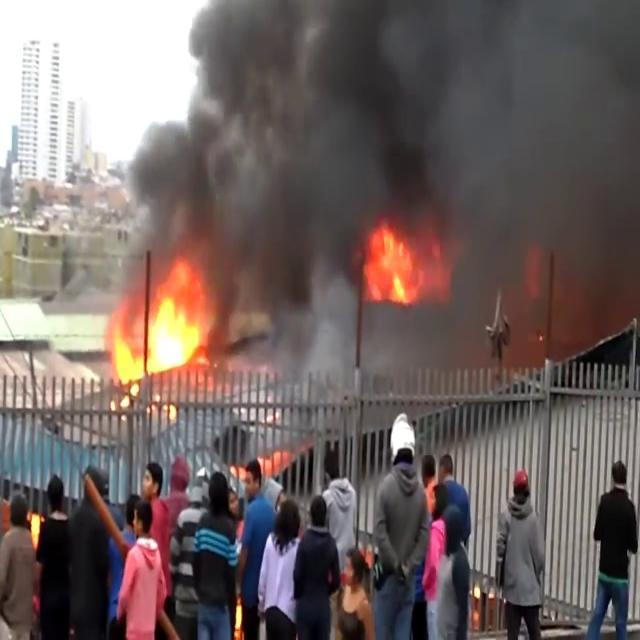Fire: (108, 262, 216, 404), (358, 214, 428, 308)
Smoke: (115, 0, 639, 321)
